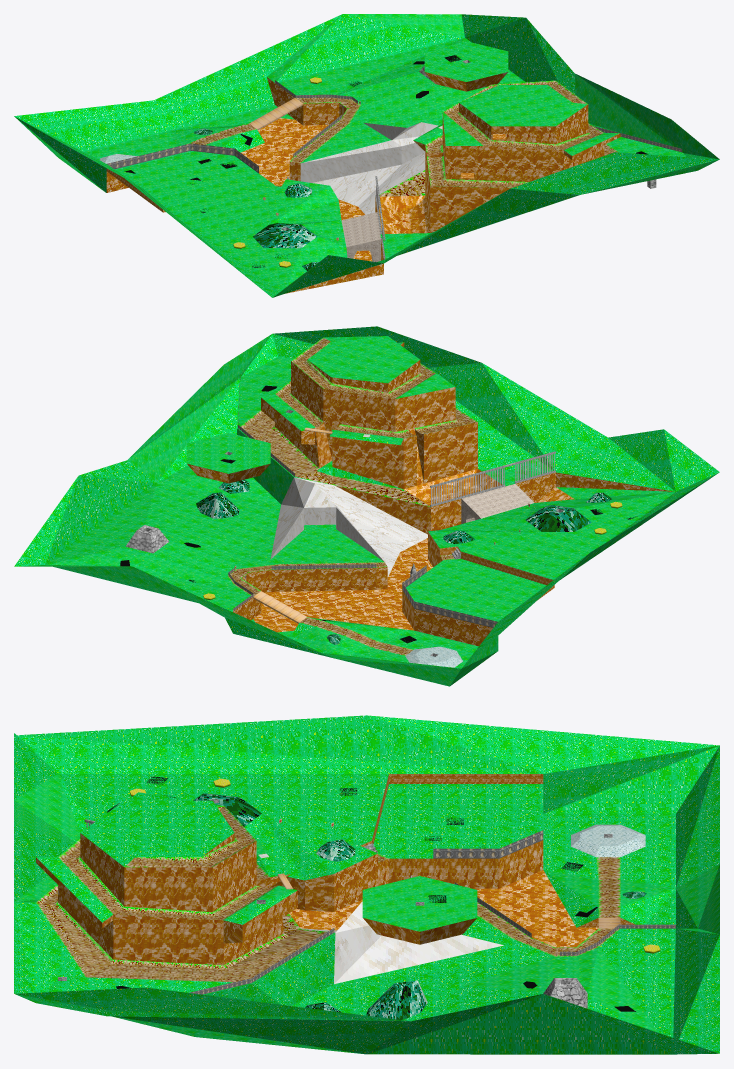
The model's file is Area1.obj.
3 views of the same model, one above another, from view 1: azimuth 30°, elevation 25°; view 2: azimuth 150°, elevation 25°; view 3: azimuth 270°, elevation 25° (orthographic). The views are drawn at different scales.
Visible parts, largest first — view 1: obj1, obj30, obj15, obj32, obj34, obj29, obj11, obj3, obj13, obj5, obj27; view 2: obj1, obj30, obj15, obj32, obj34, obj11, obj3, obj28, obj29, obj13, obj38, obj7 (+3 smaller); view 3: obj1, obj30, obj32, obj34, obj15, obj38, obj11, obj3, obj29, obj7, obj27, obj17.
Boxes of the visible parts, left/top/right/bottom form: obj1: left=14, top=14, right=719, bottom=297; obj30: left=106, top=72, right=620, bottom=293; obj15: left=300, top=122, right=442, bottom=214; obj32: left=413, top=85, right=619, bottom=155; obj34: left=379, top=80, right=618, bottom=196; obj29: left=107, top=80, right=682, bottom=173; obj11: left=194, top=128, right=318, bottom=270; obj3: left=186, top=97, right=360, bottom=186; obj13: left=341, top=212, right=380, bottom=262; obj5: left=249, top=98, right=303, bottom=130; obj27: left=125, top=55, right=647, bottom=267; obj1: left=14, top=326, right=719, bottom=686; obj30: left=187, top=336, right=673, bottom=646; obj15: left=270, top=434, right=427, bottom=577; obj32: left=261, top=336, right=454, bottom=488; obj34: left=240, top=337, right=477, bottom=506; obj11: left=196, top=479, right=611, bottom=644; obj3: left=227, top=554, right=454, bottom=655; obj28: left=431, top=454, right=554, bottom=504; obj29: left=228, top=376, right=497, bottom=627; obj13: left=461, top=483, right=534, bottom=523; obj38: left=243, top=413, right=316, bottom=477; obj7: left=405, top=646, right=462, bottom=667; obj1: left=14, top=715, right=719, bottom=1054; obj30: left=36, top=774, right=634, bottom=965; obj32: left=36, top=792, right=297, bottom=924; obj34: left=36, top=806, right=327, bottom=982; obj15: left=258, top=853, right=503, bottom=983; obj38: left=42, top=904, right=322, bottom=981; obj11: left=107, top=793, right=646, bottom=1019; obj3: left=378, top=853, right=620, bottom=956; obj29: left=189, top=830, right=675, bottom=994; obj7: left=571, top=824, right=645, bottom=857; obj27: left=45, top=776, right=635, bottom=1011; obj17: left=363, top=843, right=587, bottom=1008.
Size of the model in its own units: 244 by 69.53 by 244.
